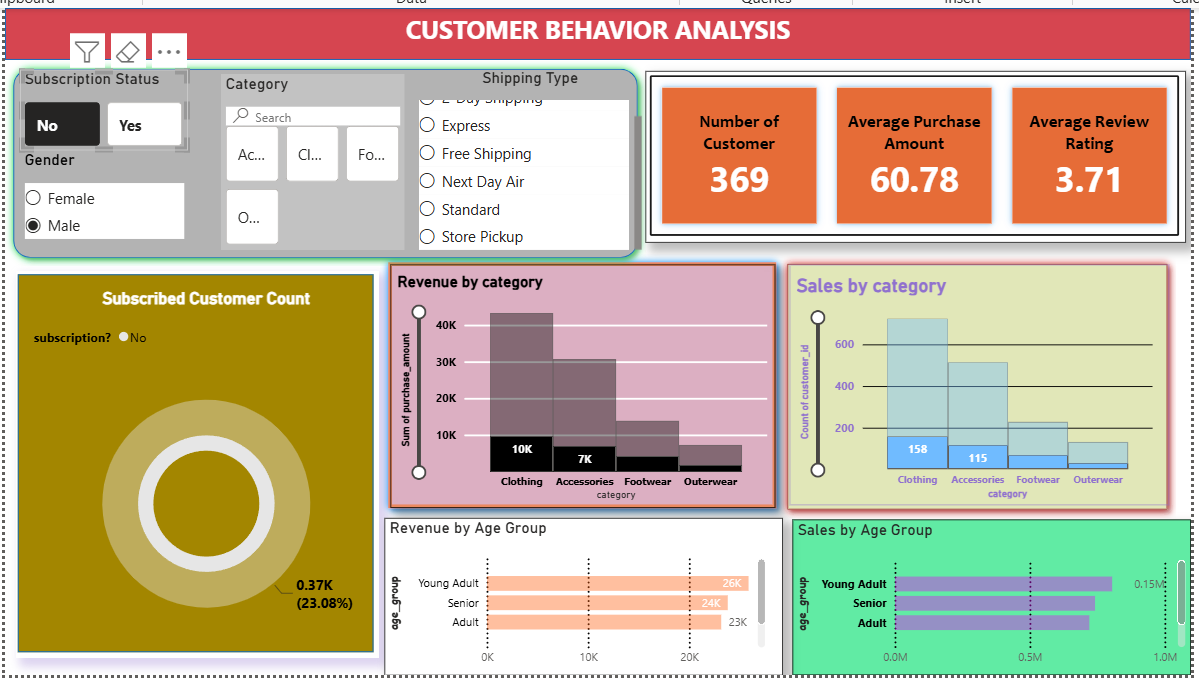

What the dashboard file says about the page in this screenshot:
{"tool":"powerbi","page":{"name":"Page 1","canvas":[1280,720],"ordinal":0},"visuals":[{"type":"cardVisual","fields":{"Data":["public customer.Number of Customer","public customer.Average Purchase Amount","public customer.Average Review Rating"]},"box":[692,68,583.3,185],"z":0},{"type":"textbox","box":[0,0,1280,80],"z":1000},{"type":"shape","box":[0,0,1280,56],"z":2000},{"type":"textbox","box":[0,0,1280,56],"z":3000},{"type":"shape","box":[6,280,398,422],"z":4000},{"type":"donutChart","title":"Subscribed Customer Count","fields":{"Category":["public customer.subscription_status"],"Y":["CountNonNull(public customer.customer_id)"]},"box":[12,284,392,418],"z":5000},{"type":"shape","box":[404,266,436.7,283.3],"z":6000},{"type":"clusteredColumnChart","title":"Revenue by category","fields":{"Y":["Sum(public customer.purchase_amount)"],"Category":["public customer.category"]},"box":[416.2,277.5,415,262.5],"z":7000},{"type":"shape","box":[836.2,267.5,428.3,283.3],"z":8000},{"type":"clusteredColumnChart","title":"Sales by category","fields":{"Y":["CountNonNull(public customer.customer_id)"],"Category":["public customer.category"]},"box":[846.2,277.5,410,260],"z":9000},{"type":"shape","box":[0,56,692,222],"z":10000},{"type":"advancedSlicerVisual","title":"Subscription Status","fields":{"Values":["public customer.subscription_status"]},"box":[15,68.3,166.7,86.7],"z":11000},{"type":"listSlicer","title":"Shipping Type","fields":{"Values":["public customer.shipping_type"]},"box":[442,64,250,202],"z":12000},{"type":"advancedSlicerVisual","title":"Category","fields":{"Values":["public customer.category"]},"box":[226,70,198,190],"z":13000},{"type":"clusteredBarChart","title":"Revenue by Age Group","fields":{"Y":["Sum(public customer.purchase_amount)"],"Category":["public customer.age_group"]},"box":[410,550,430,170],"z":14000},{"type":"listSlicer","title":"Gender","fields":{"Values":["public customer.gender"]},"box":[16,154,182,108],"z":15000},{"type":"clusteredBarChart","title":"Sales by Age Group","fields":{"Y":["Sum(public customer.customer_id)"],"Category":["public customer.age_group"]},"box":[850,552,430,168],"z":16000}]}

Visuals, with their boxes in screenshot pixels (x1, y1, x2, y2):
cardVisual - public customer.Number of Customer x public customer.Average Purchase Amount: {"left": 639, "top": 66, "right": 1178, "bottom": 237}
textbox: {"left": 0, "top": 3, "right": 1182, "bottom": 77}
shape: {"left": 0, "top": 3, "right": 1182, "bottom": 55}
textbox: {"left": 0, "top": 3, "right": 1182, "bottom": 55}
shape: {"left": 6, "top": 262, "right": 373, "bottom": 652}
"Subscribed Customer Count" donutChart: {"left": 11, "top": 265, "right": 373, "bottom": 652}
shape: {"left": 373, "top": 249, "right": 777, "bottom": 511}
"Revenue by category" clusteredColumnChart: {"left": 384, "top": 259, "right": 768, "bottom": 502}
shape: {"left": 772, "top": 250, "right": 1168, "bottom": 512}
"Sales by category" clusteredColumnChart: {"left": 782, "top": 259, "right": 1160, "bottom": 500}
shape: {"left": 0, "top": 55, "right": 639, "bottom": 260}
"Subscription Status" advancedSlicerVisual: {"left": 14, "top": 66, "right": 168, "bottom": 146}
"Shipping Type" listSlicer: {"left": 408, "top": 62, "right": 639, "bottom": 249}
"Category" advancedSlicerVisual: {"left": 209, "top": 68, "right": 392, "bottom": 243}
"Revenue by Age Group" clusteredBarChart: {"left": 379, "top": 511, "right": 776, "bottom": 668}
"Gender" listSlicer: {"left": 15, "top": 145, "right": 183, "bottom": 245}
"Sales by Age Group" clusteredBarChart: {"left": 785, "top": 513, "right": 1182, "bottom": 668}
